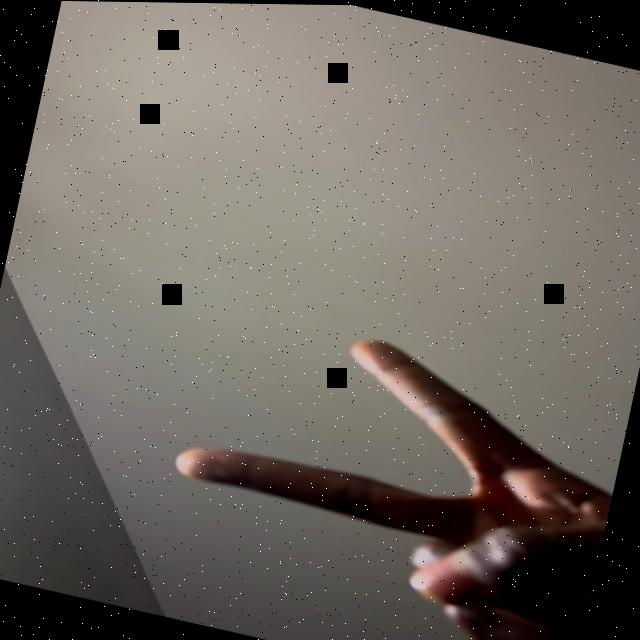Scissors: (140, 296, 633, 640)
